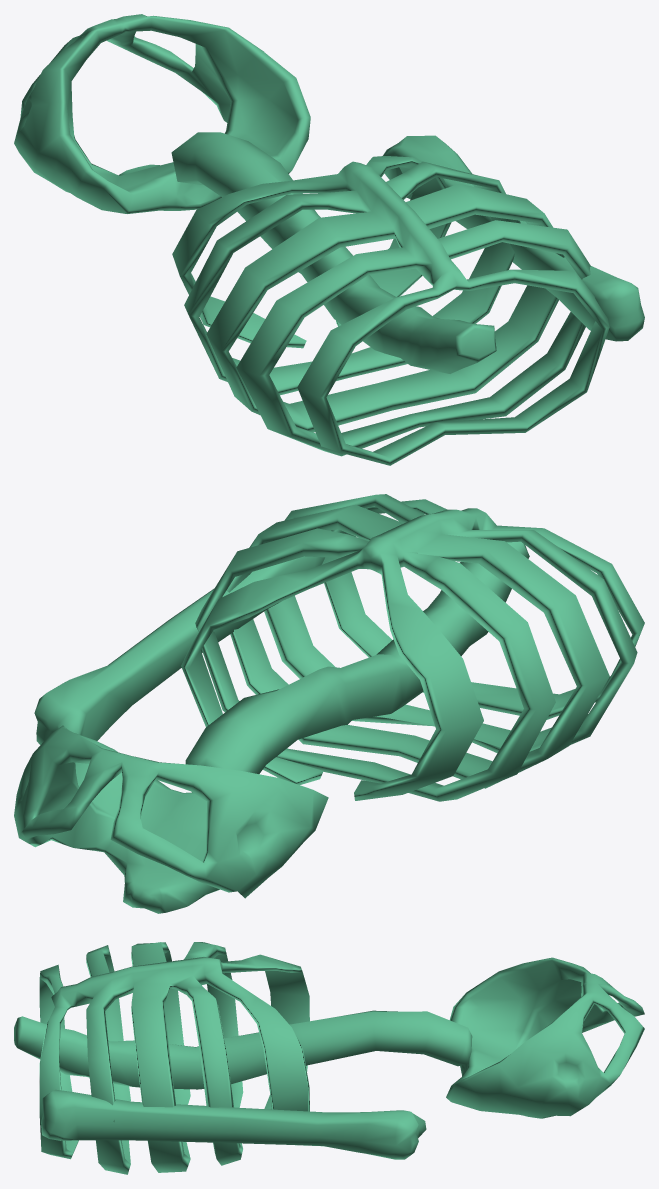
The model's file is Skeleton_06_Lod0.fbx.
The picture shows the model from 3 angles, top to bottom: view 1: azimuth 30°, elevation 25°; view 2: azimuth 150°, elevation 25°; view 3: azimuth 270°, elevation 25°; orthographic projection. The views are drawn at different scales.
Visible parts, largest first — view 1: Skeleton_06_Lod0; view 2: Skeleton_06_Lod0; view 3: Skeleton_06_Lod0.
Part boxes in pixels (x1,y1,x2,y2): Skeleton_06_Lod0: (14, 14, 644, 465); Skeleton_06_Lod0: (14, 494, 644, 913); Skeleton_06_Lod0: (14, 942, 644, 1174).
Bounding box in the file's own units: 29.66 × 16.7 × 52.35.
